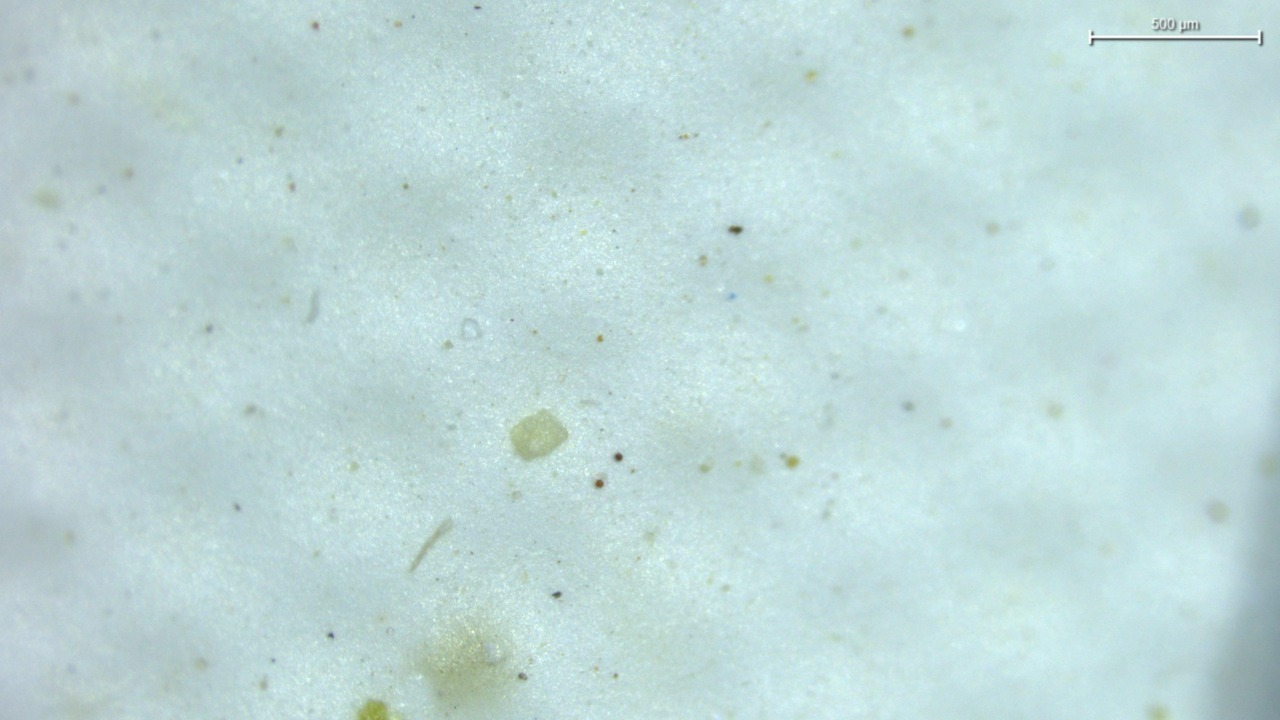microplastic_fragment: (510, 410, 568, 460)
